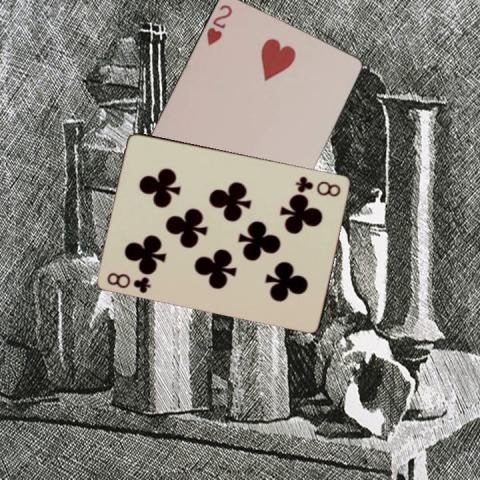2h: (203, 1, 234, 47)
8c: (292, 173, 343, 198), (104, 268, 153, 294)
